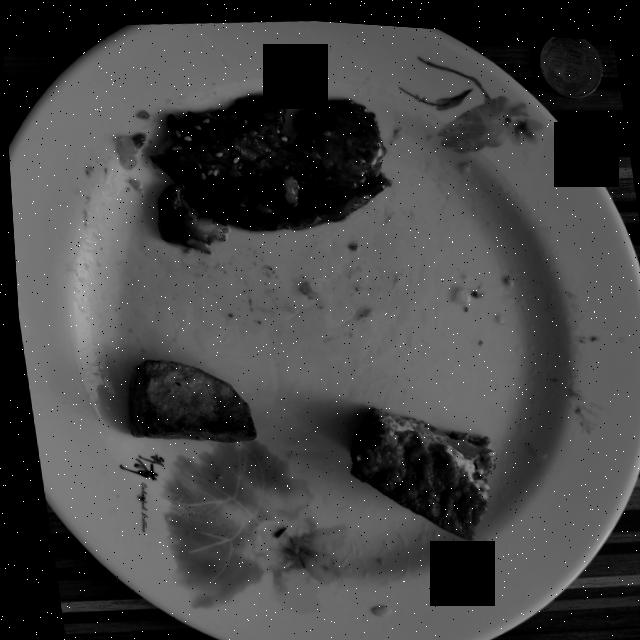Kabayaki sea bream fillet: (147, 91, 387, 251)
coin: (537, 29, 601, 90)
egg tofu: (343, 402, 490, 534)
fried potato: (123, 357, 250, 439)
